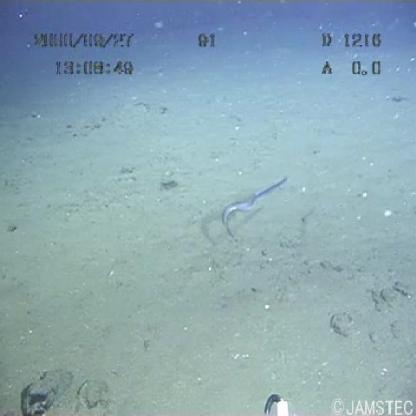Bio: (216, 171, 289, 247)
